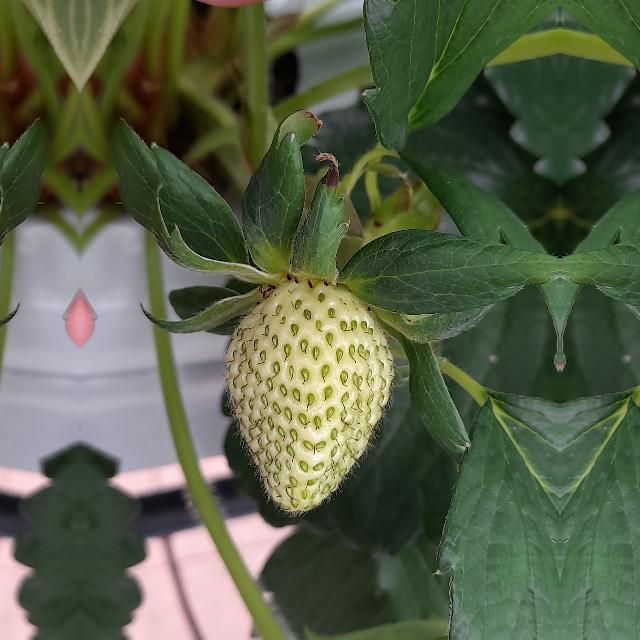Health_25: (223, 276, 394, 510)
